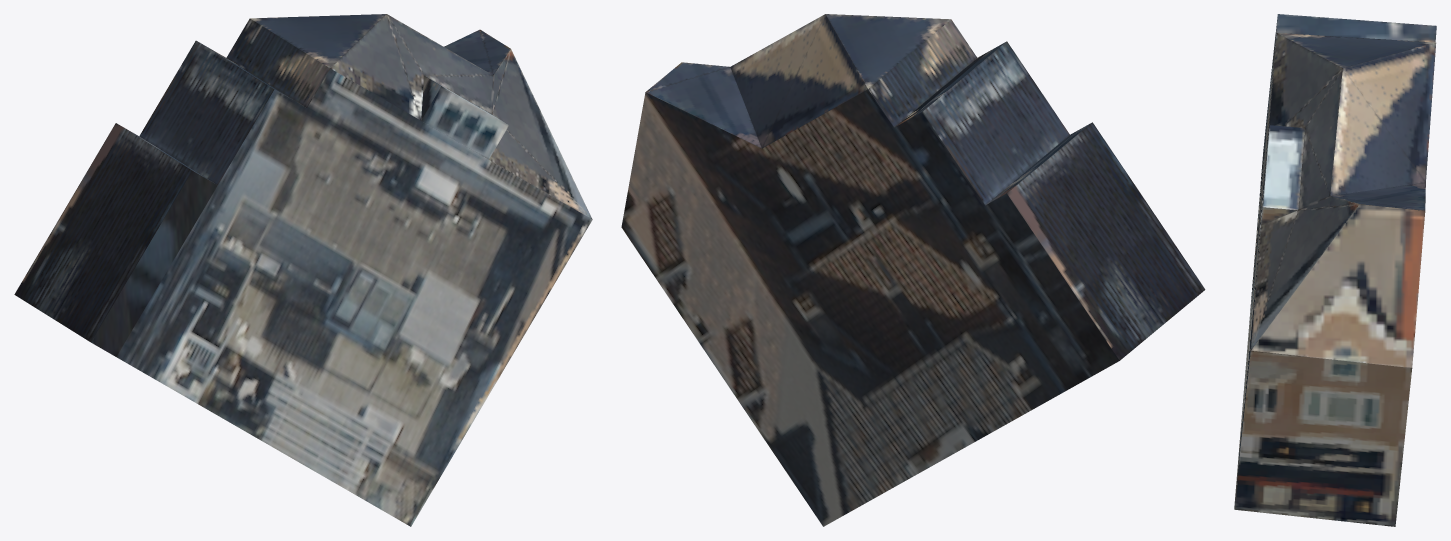
3 views of the same model, side by side, from view 1: azimuth 30°, elevation 25°; view 2: azimuth 150°, elevation 25°; view 3: azimuth 270°, elevation 25° (orthographic). The views are drawn at different scales.
Parts seen in each view (by area): view 1: BAG_0599100000671718 (×5); view 2: BAG_0599100000671718 (×5); view 3: BAG_0599100000671718 (×5).
Part boxes in pixels (x1=…): BAG_0599100000671718 (×5): x1=14, y1=14, x2=592, y2=526; BAG_0599100000671718 (×5): x1=621, y1=14, x2=1205, y2=526; BAG_0599100000671718 (×5): x1=1234, y1=14, x2=1436, y2=526.
Size of the model in its own units: 18.32 by 16.76 by 6.55.
Materials: 1 (1 with a texture image).
